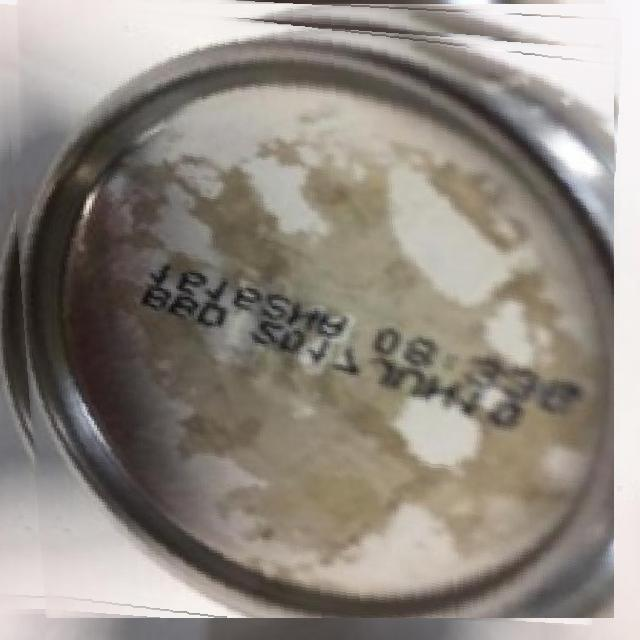recyclable: (0, 0, 614, 618)
